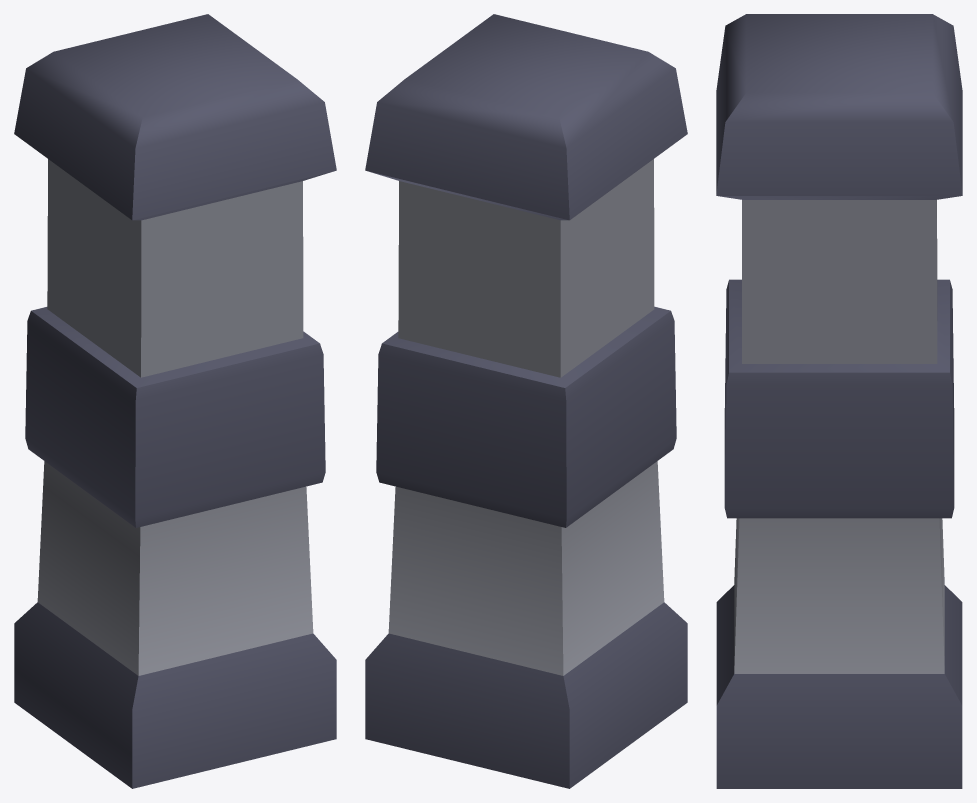
The model's file is pilar.fbx.
3 views of the same model, side by side, from view 1: azimuth 30°, elevation 25°; view 2: azimuth 150°, elevation 25°; view 3: azimuth 270°, elevation 25° (orthographic). The views are drawn at different scales.
Parts seen in each view (by area): view 1: pilar; view 2: pilar; view 3: pilar.
Part boxes in pixels (box(x1,y1,x2,y2)): pilar: box(14, 14, 336, 788); pilar: box(365, 14, 687, 788); pilar: box(716, 14, 962, 788).
Bounding box in the file's own units: 135 × 412 × 135.
